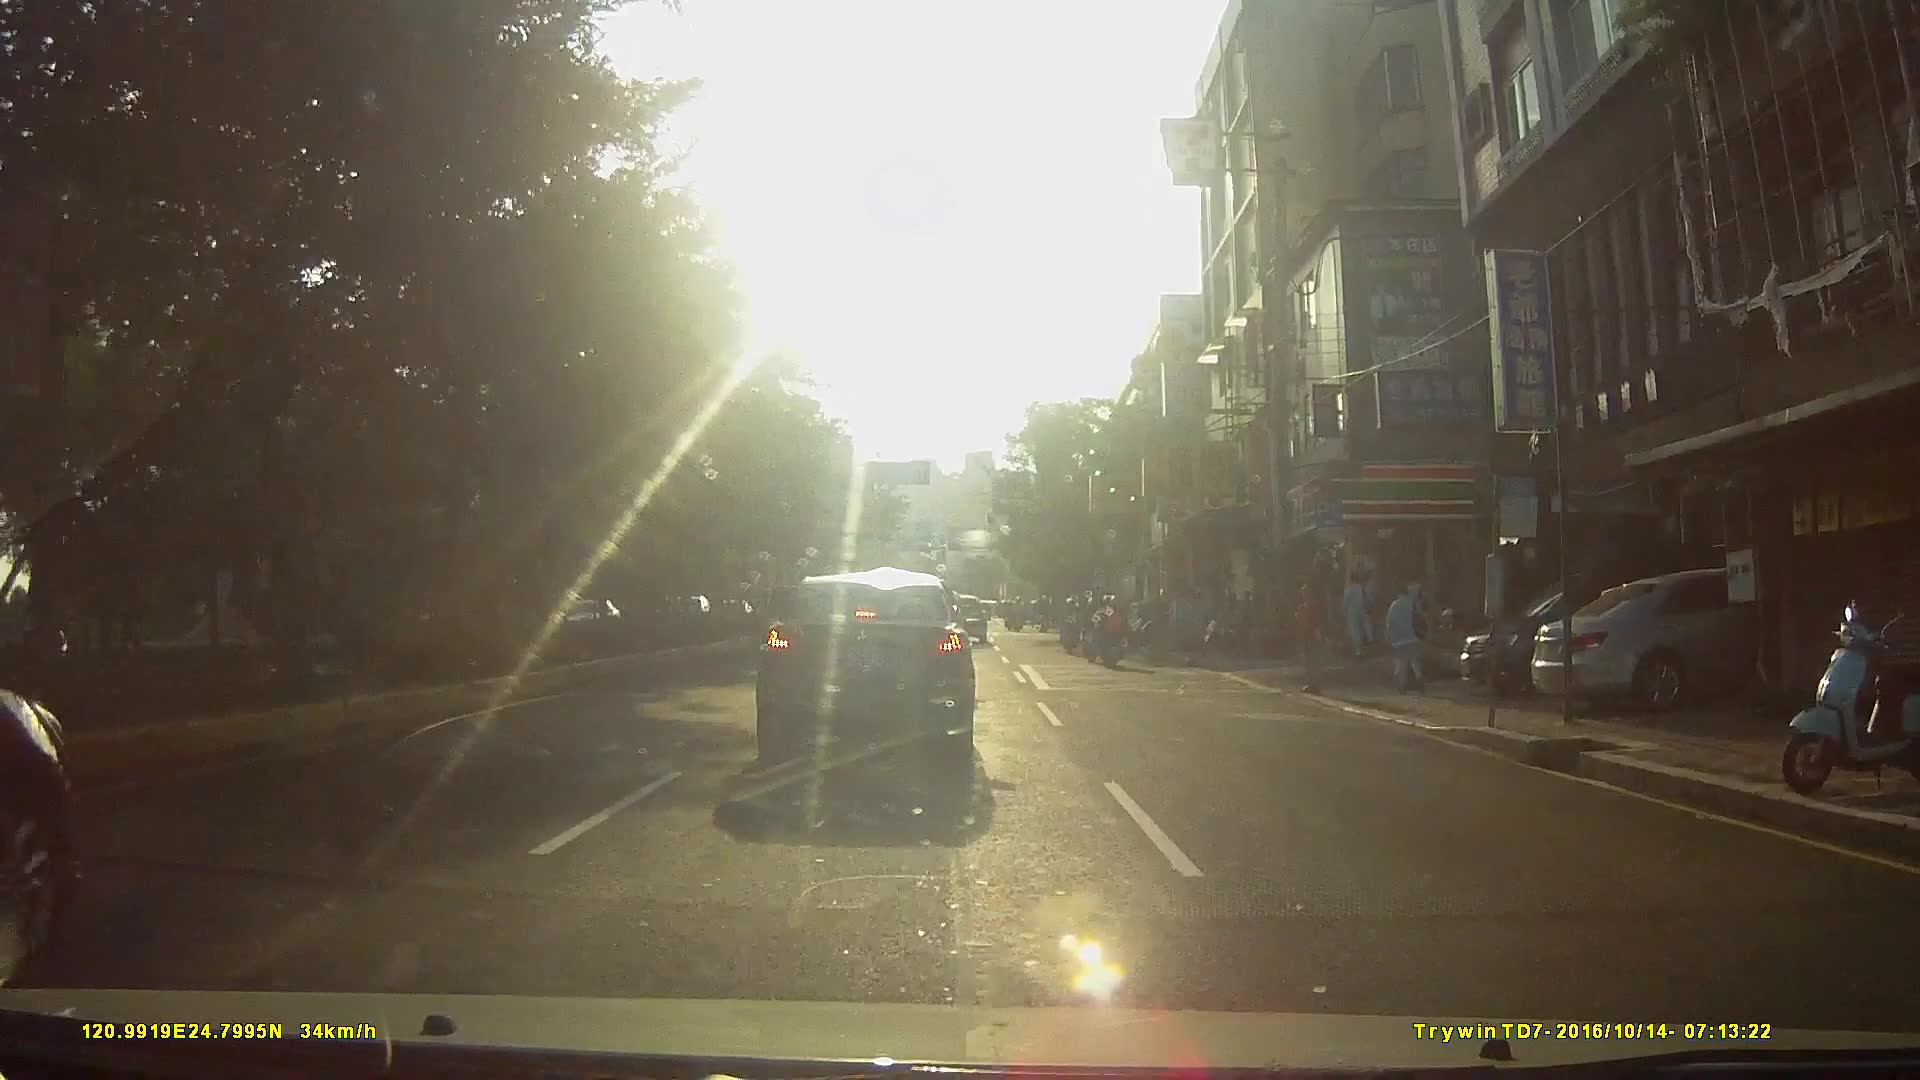pedestrian: (1381, 586, 1429, 703), (1298, 581, 1330, 699)
rider: (1092, 595, 1130, 674), (1059, 599, 1081, 657)
vehicle: (1452, 556, 1841, 712), (1514, 570, 1909, 721), (741, 572, 996, 775)
